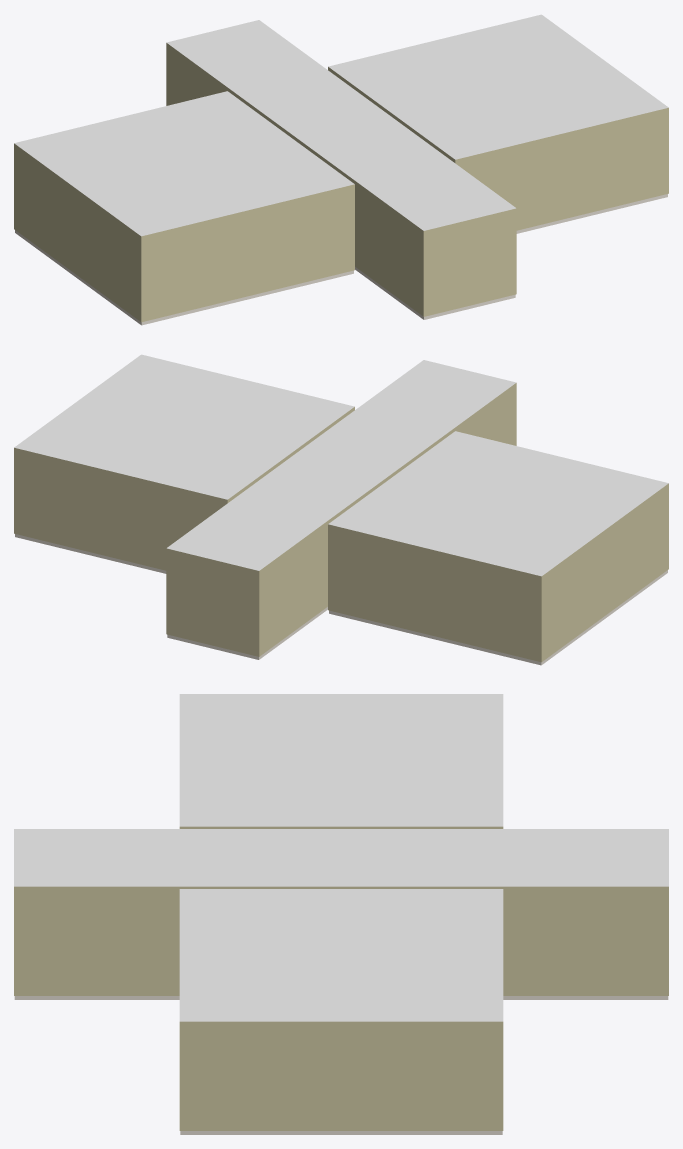
Rendered from Enviroment.fbx.
3 views of the same model, one above another, from view 1: azimuth 30°, elevation 25°; view 2: azimuth 150°, elevation 25°; view 3: azimuth 270°, elevation 25° (orthographic). The views are drawn at different scales.
Parts seen in each view (by area): view 1: Room, Corridor; view 2: Room, Corridor; view 3: Room, Corridor.
Part boxes in pixels (left/top/right/bottom): Room: left=14, top=14, right=668, bottom=325; Corridor: left=166, top=20, right=516, bottom=319; Room: left=14, top=354, right=668, bottom=665; Corridor: left=166, top=360, right=516, bottom=659; Room: left=179, top=694, right=503, bottom=1134; Corridor: left=14, top=829, right=668, bottom=999.
Bounding box in the file's own units: 1420 × 230 × 1200.
